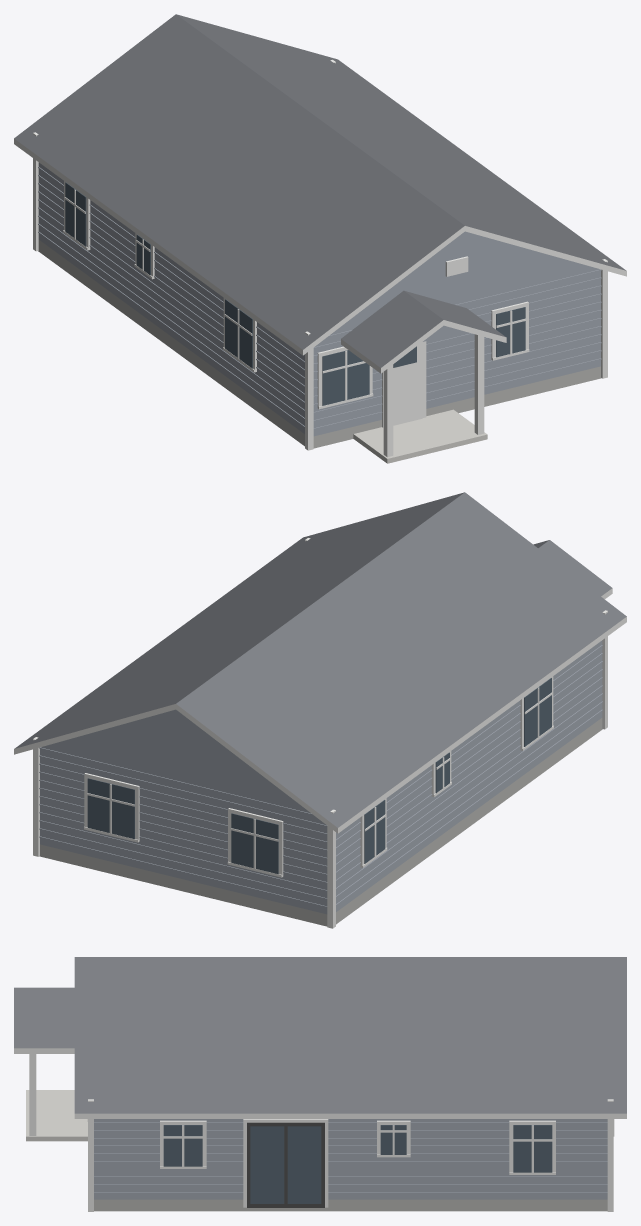
The model's file is almond-cottage.glb.
The picture shows the model from 3 angles, top to bottom: view 1: azimuth 30°, elevation 25°; view 2: azimuth 150°, elevation 25°; view 3: azimuth 270°, elevation 25°; orthographic projection. The views are drawn at different scales.
Parts seen in each view (by area): view 1: The Almond (cottage); view 2: The Almond (cottage); view 3: The Almond (cottage).
Part boxes in pixels (x1,y1,x2,y2): The Almond (cottage): [14, 14, 626, 463]; The Almond (cottage): [14, 492, 626, 928]; The Almond (cottage): [14, 957, 626, 1211].
Size of the model in its own units: 8.38 by 4.8 by 14.38.
